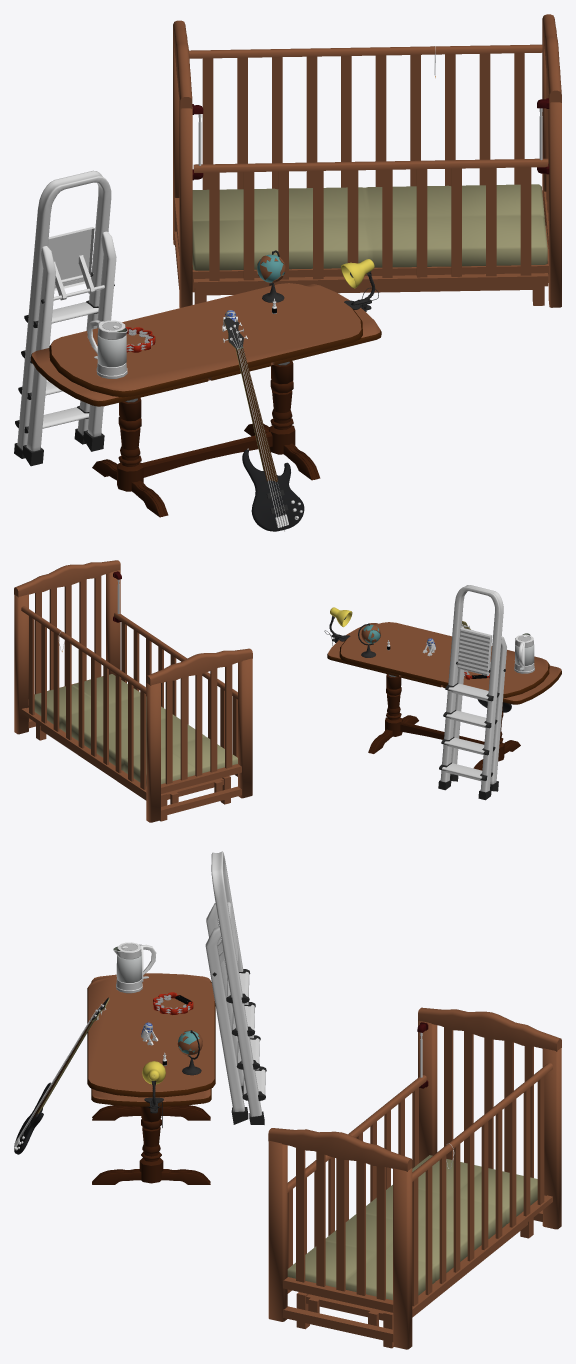
File: homework1.fbx
3 views of the same model, one above another, from view 1: azimuth 30°, elevation 25°; view 2: azimuth 150°, elevation 25°; view 3: azimuth 270°, elevation 25° (orthographic). The views are drawn at different scales.
Visible parts, largest first — view 1: bed, top-cap, cage3, cage2, part1, cage-body-right, legs, ladder, laddersupport, cage-body-left, additional-caps, bottom-body (+11 smaller); view 2: part1, cage1, bed, cage3, top-cap, ladder, top-body, cage2, cage-body-left, laddersteps, legs, bottom-body (+7 smaller); view 3: part1, top-cap, cage1, cage3, bed, top-body, ladder, cage2, laddersupport, cage-body-left, bottom-legs, bottom-body (+5 smaller).
Part boxes in pixels (bbox=[...]): bed: bbox=[192, 184, 547, 270]; top-cap: bbox=[49, 283, 362, 397]; cage3: bbox=[202, 53, 524, 189]; cage2: bbox=[209, 167, 531, 280]; part1: bbox=[173, 27, 561, 307]; cage-body-right: bbox=[193, 158, 548, 288]; legs: bbox=[117, 361, 295, 491]; ladder: bbox=[17, 170, 111, 449]; laddersupport: bbox=[26, 231, 116, 451]; cage-body-left: bbox=[189, 44, 542, 58]; additional-caps: bbox=[31, 284, 381, 406]; bottom-body: bbox=[192, 257, 548, 305]; part1: bbox=[14, 570, 252, 822]; cage1: bbox=[35, 576, 232, 784]; bed: bbox=[34, 674, 237, 786]; cage3: bbox=[29, 616, 145, 789]; top-cap: bbox=[339, 622, 549, 697]; ladder: bbox=[440, 585, 503, 792]; top-body: bbox=[14, 560, 252, 685]; cage2: bbox=[121, 622, 237, 757]; cage-body-left: bbox=[21, 606, 146, 796]; laddersteps: bbox=[439, 683, 499, 780]; legs: bbox=[385, 674, 504, 761]; bottom-body: bbox=[36, 723, 230, 821]; part1: bbox=[268, 1020, 561, 1349]; top-cap: bbox=[87, 974, 215, 1097]; cage1: bbox=[296, 1027, 533, 1300]; cage3: bbox=[412, 1076, 544, 1306]; bed: bbox=[287, 1155, 537, 1300]; top-body: bbox=[268, 1007, 561, 1171]; ladder: bbox=[211, 851, 261, 1116]; cage2: bbox=[287, 1088, 418, 1268]; laddersupport: bbox=[205, 903, 244, 1111]; cage-body-left: bbox=[412, 1063, 552, 1314]; bottom-legs: bbox=[92, 1105, 210, 1184]; bottom-body: bbox=[296, 1218, 533, 1348].
Bounding box in the file's own units: 2585 × 1109 × 2177.
